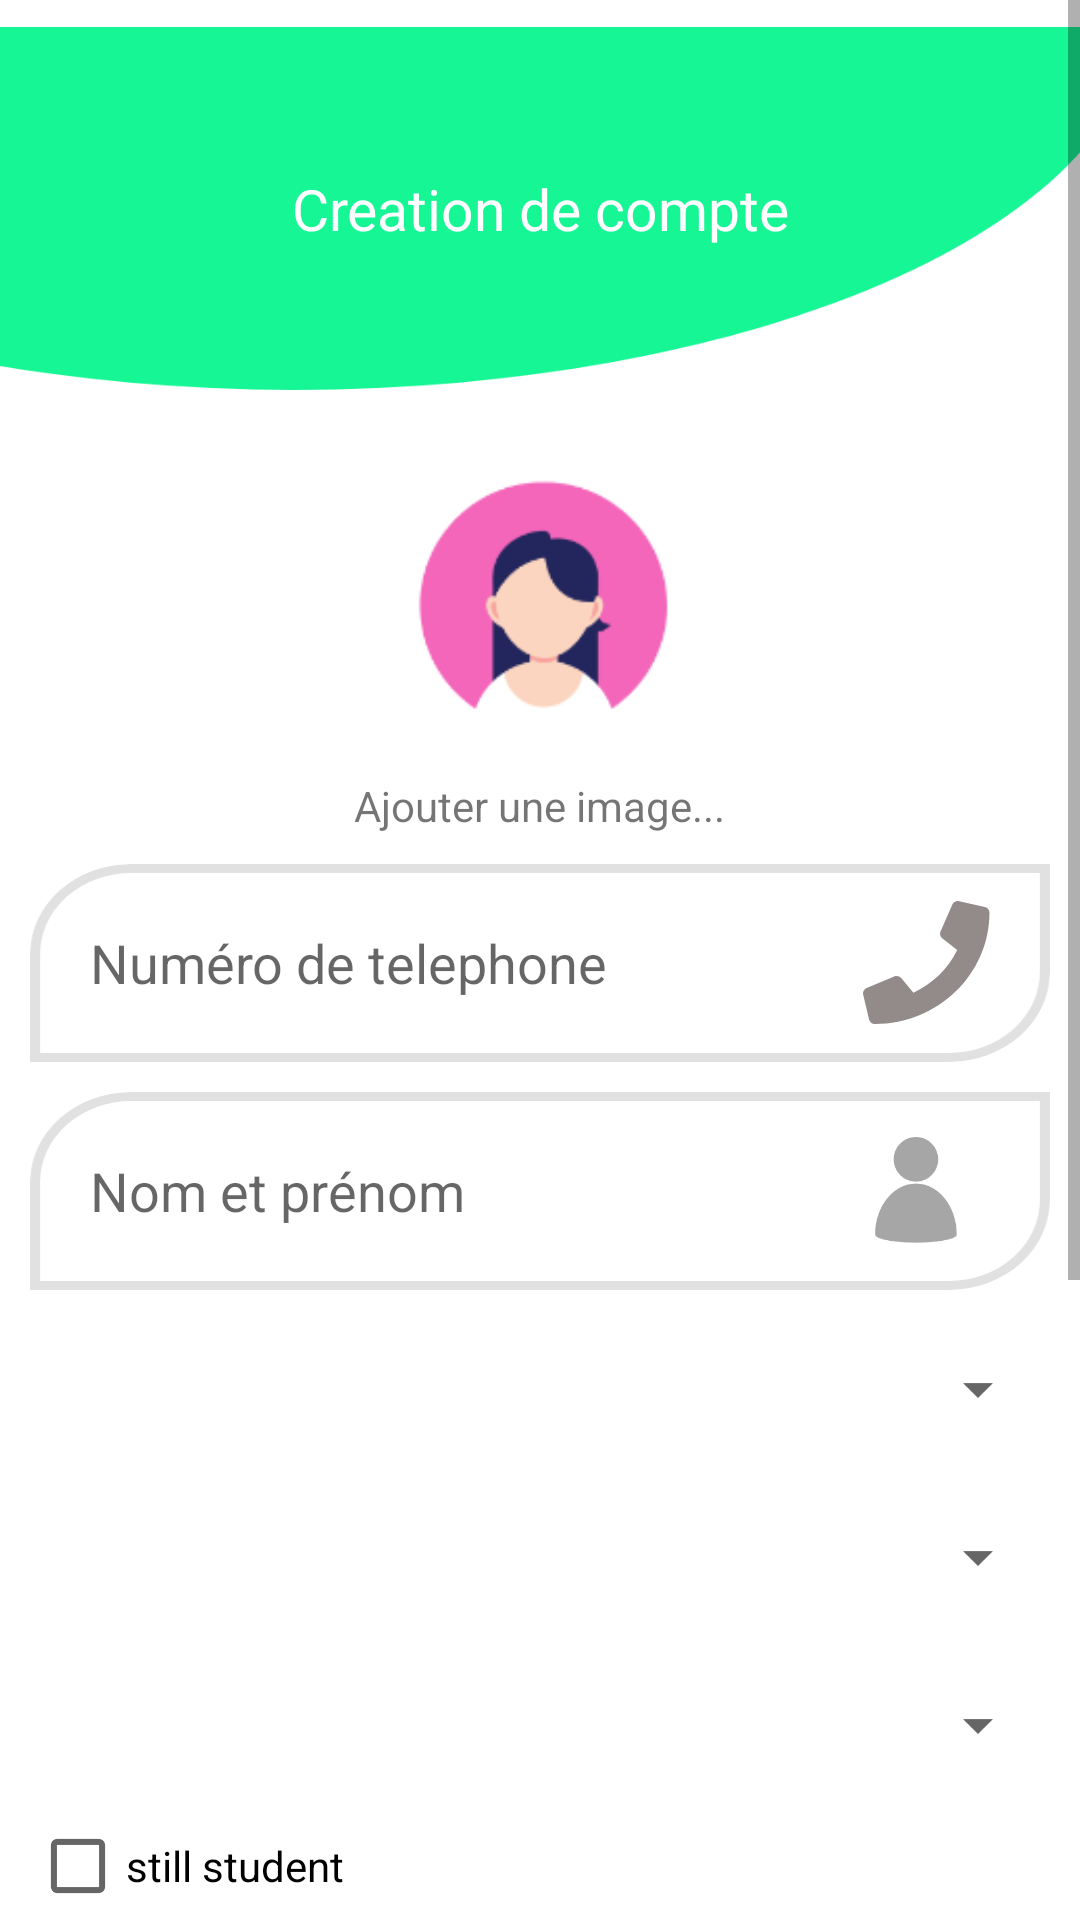

Screen size 1080*1920. Icon name, then its box in pixels as detection(x1, y1, x2, y2):
userimg: detection(419, 481, 668, 709)
